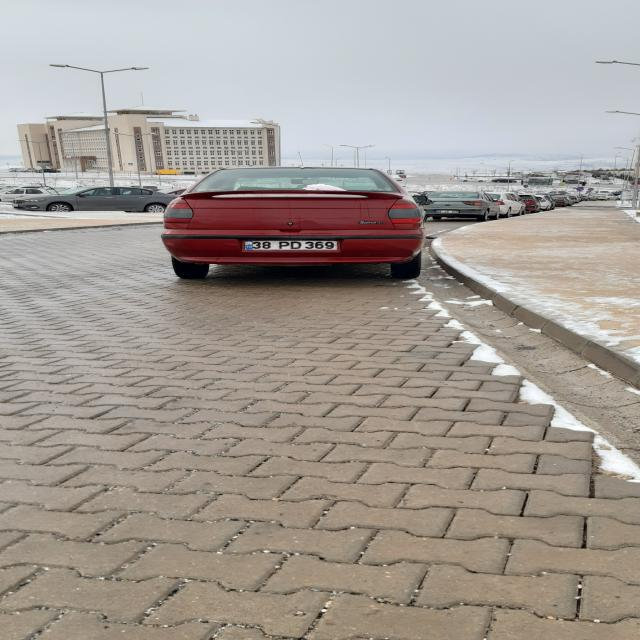plate: (245, 240, 338, 250)
